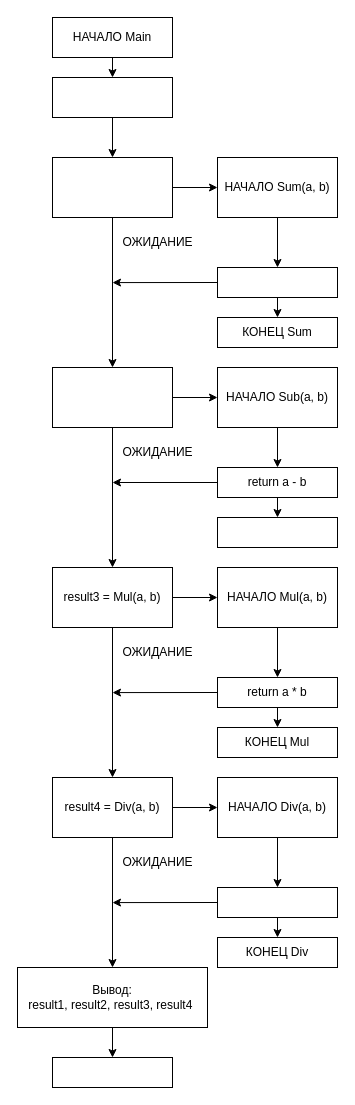
The diagram is 355 pixels wide and 1105 high, and some of its shapes have lost their labels. Each missing label, with the centre of its shape:
"result1 = Sum(a, b)" goes at [112,187].
"result2 = Sub(a, b)" goes at [112,397].
"return a + b" goes at [277,282].
"return a / b" goes at [277,902].
"Ввод: a, b" goes at [112,97].
"КОНЕЦ Main" goes at [112,1072].
"КОНЕЦ Sub" goes at [277,532].
